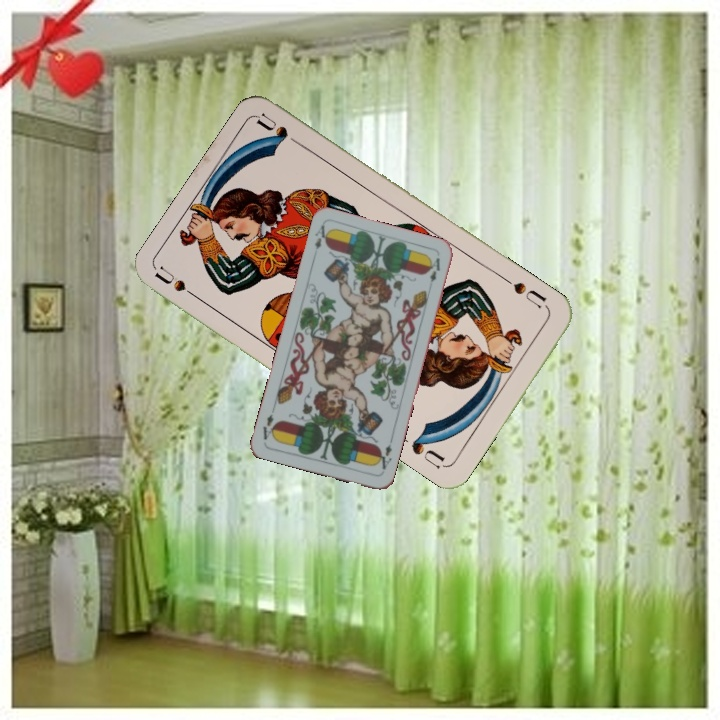EA: (372, 435, 395, 475), (310, 221, 332, 252)
SU: (152, 263, 207, 305), (500, 274, 552, 314)
